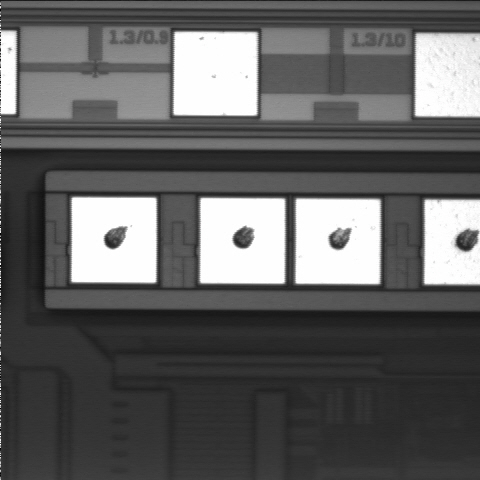pad: (200, 198, 285, 284), (72, 198, 156, 283), (296, 199, 380, 284), (174, 32, 257, 115)
